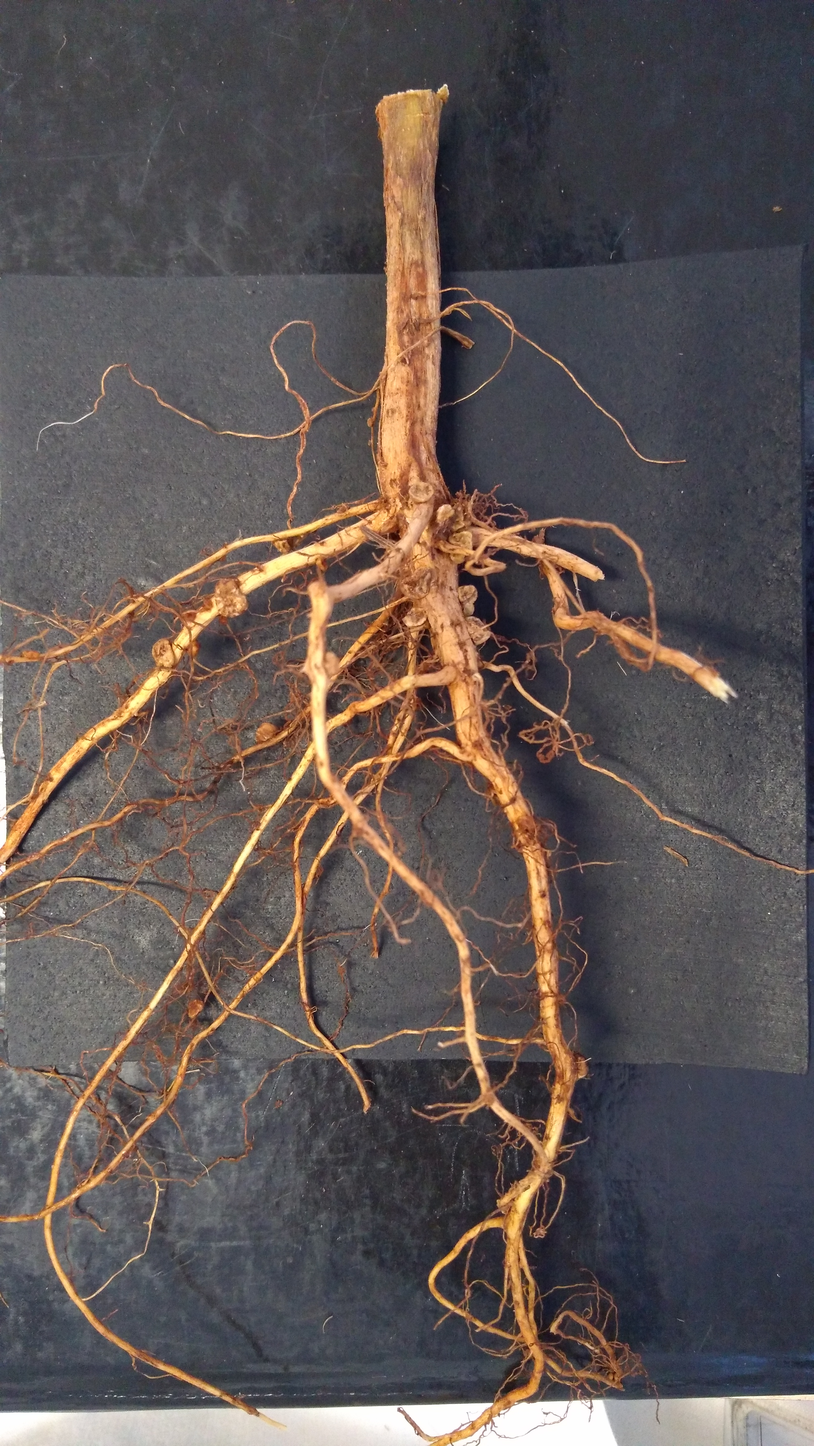nodule: (213, 577, 250, 619), (398, 565, 437, 602), (463, 615, 496, 647), (448, 529, 475, 567), (150, 637, 179, 672), (405, 478, 436, 505), (456, 583, 478, 620), (574, 1051, 596, 1088), (400, 605, 432, 628), (324, 648, 345, 681), (435, 502, 458, 526), (253, 722, 280, 742), (272, 537, 301, 553), (186, 996, 206, 1018), (186, 637, 204, 660), (315, 556, 329, 572), (336, 501, 351, 514), (366, 416, 374, 429), (367, 439, 372, 446)
